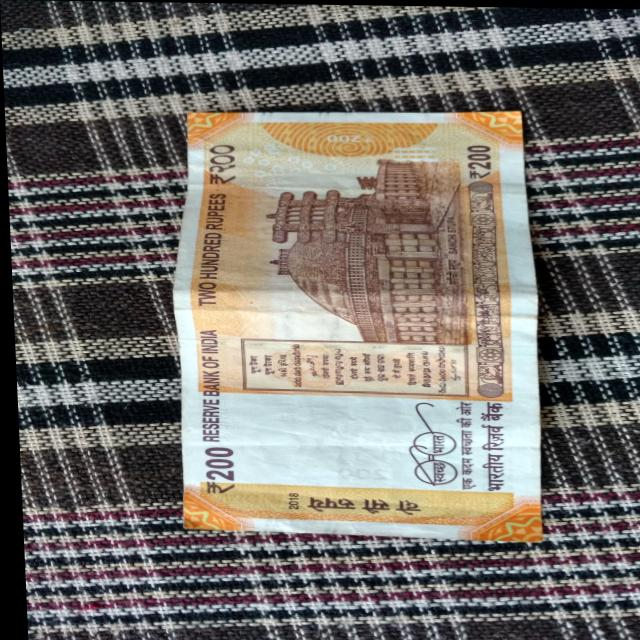Currency: (163, 108, 551, 532)
